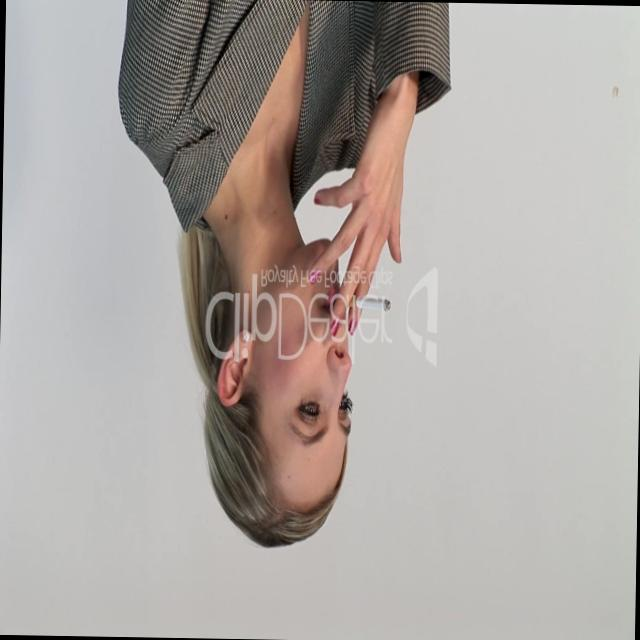smoke: (345, 276, 416, 334)
